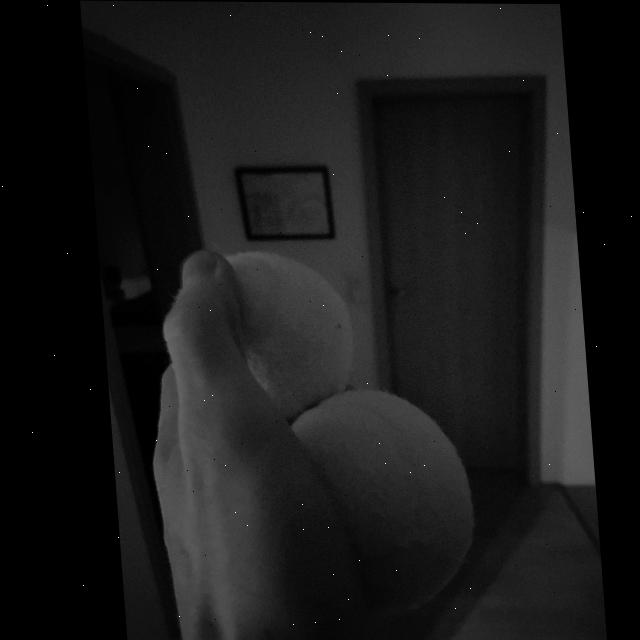Tennisball: (292, 390, 474, 611), (226, 252, 353, 424)
